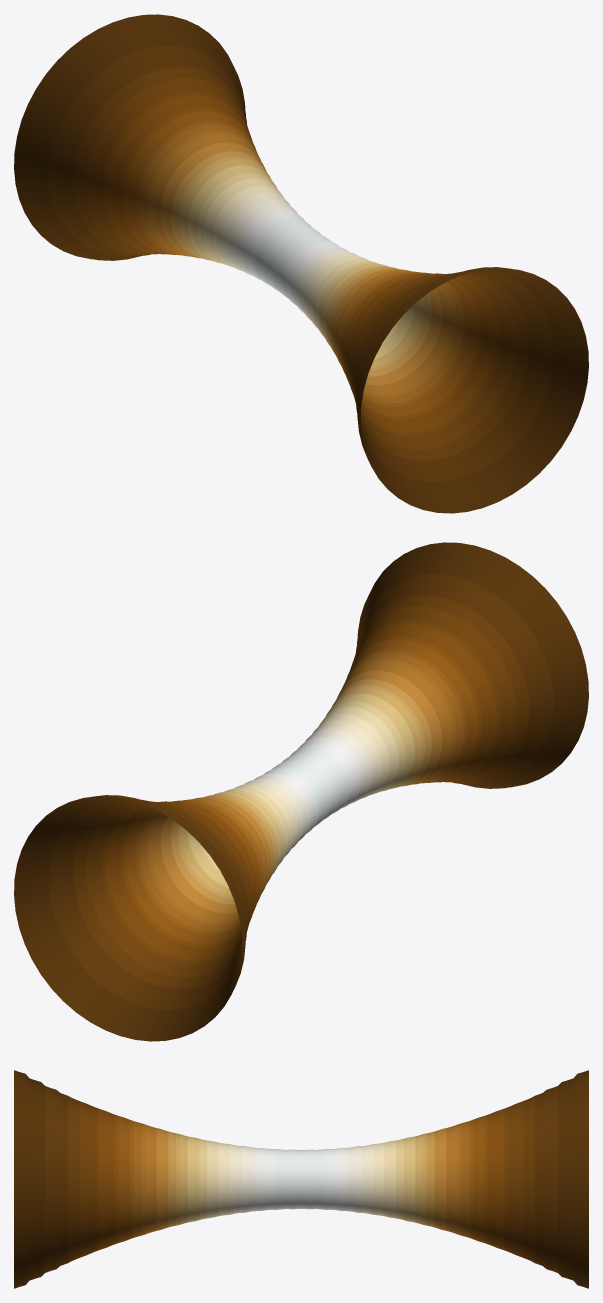
File: pathway.obj
The picture shows the model from 3 angles, top to bottom: view 1: azimuth 30°, elevation 25°; view 2: azimuth 150°, elevation 25°; view 3: azimuth 270°, elevation 25°; orthographic projection. The views are drawn at different scales.
Size of the model in its own units: 15.21 by 15.2 by 40.
